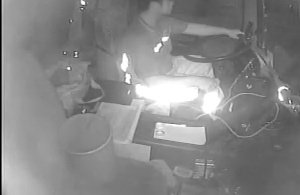paper: (153, 121, 207, 147)
